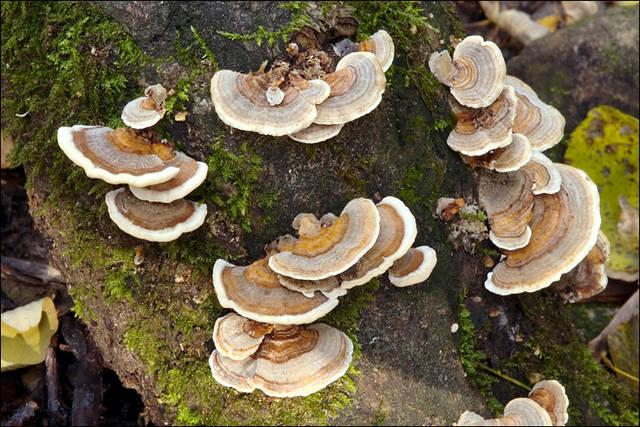Non-edible Mushroom: (207, 193, 437, 398), (428, 34, 603, 297), (56, 84, 209, 243), (209, 28, 394, 144)
